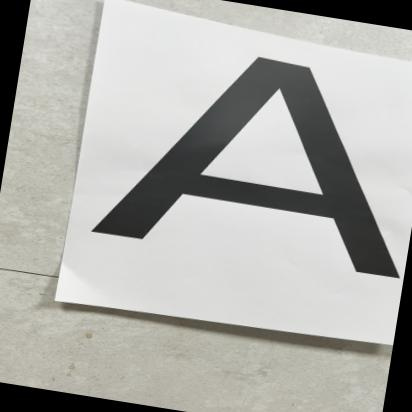seat: (92, 26, 412, 315)
